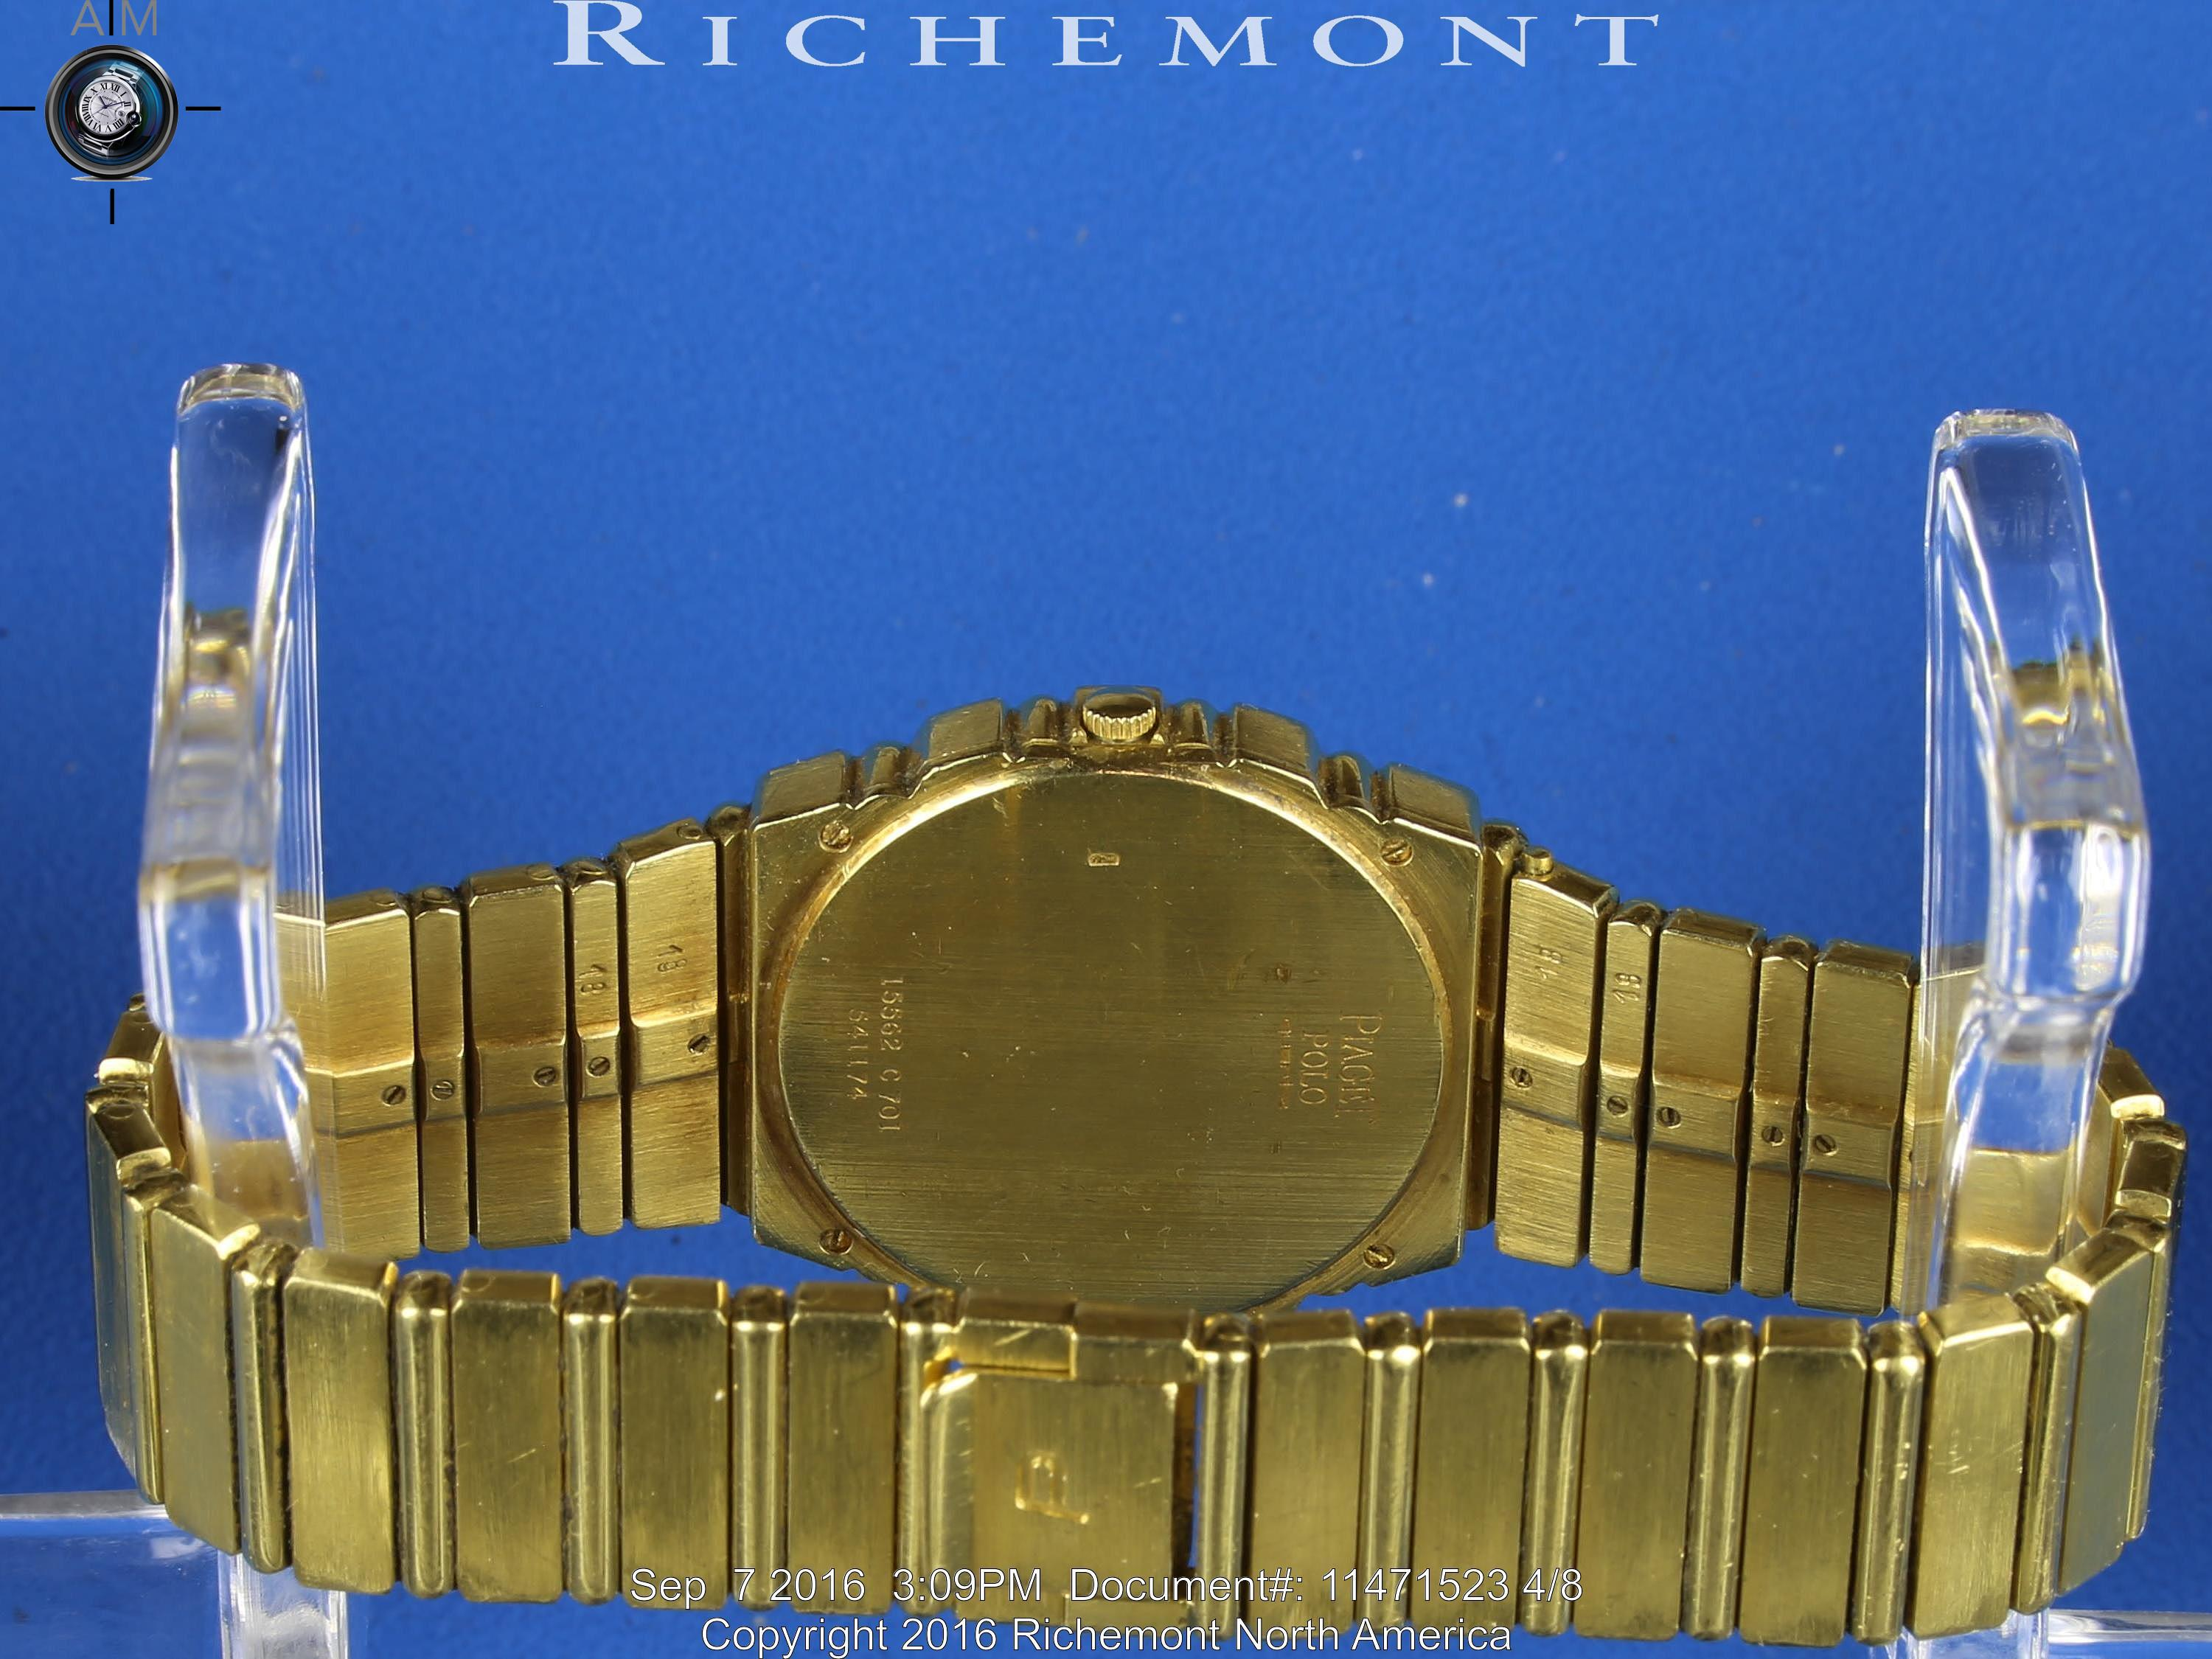Watch BackCase: (742, 678, 1480, 1295)
